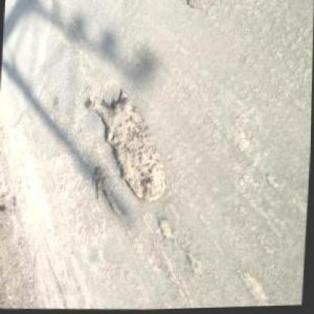Hueco: (78, 86, 174, 204), (89, 164, 128, 218), (156, 214, 176, 243), (184, 0, 224, 13)
